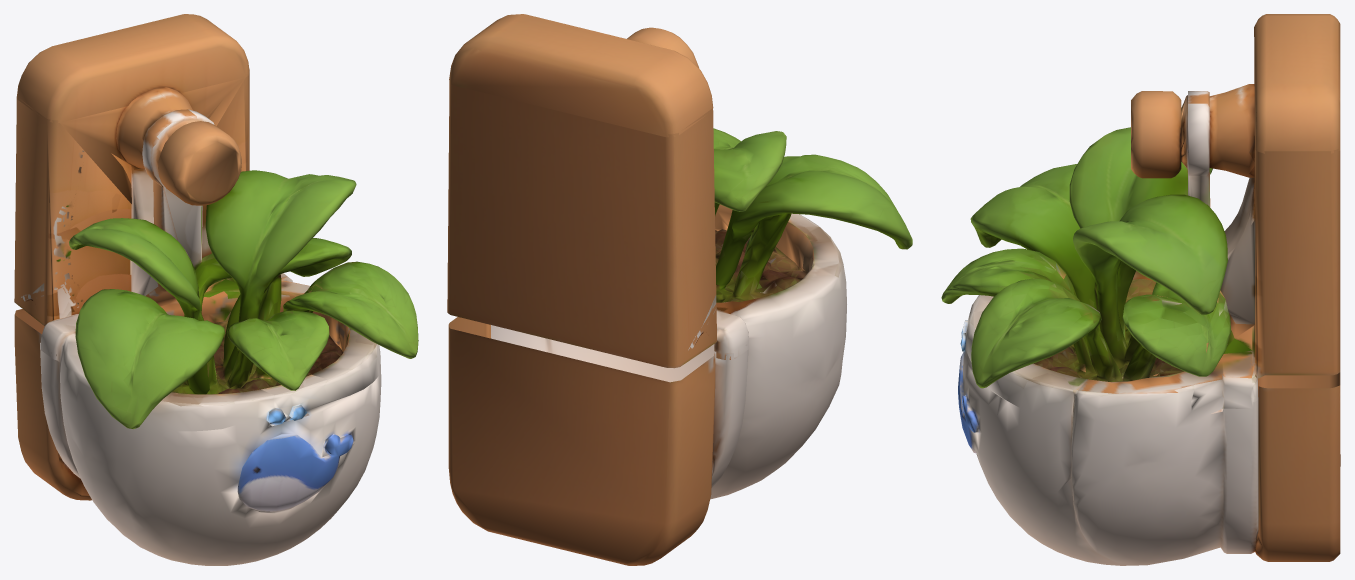
File: wall-plant.glb
3 views of the same model, side by side, from view 1: azimuth 30°, elevation 25°; view 2: azimuth 150°, elevation 25°; view 3: azimuth 270°, elevation 25° (orthographic). The views are drawn at different scales.
Visible parts, largest first — view 1: wall_plant_mesh; view 2: wall_plant_mesh; view 3: wall_plant_mesh.
Part boxes in pixels (x1=…): wall_plant_mesh: x1=14, y1=14, x2=418, y2=565; wall_plant_mesh: x1=447, y1=14, x2=912, y2=565; wall_plant_mesh: x1=941, y1=14, x2=1340, y2=565.
Size of the model in its own units: 0.3124 by 0.4206 by 0.3101.
1 material, 1 textured.
